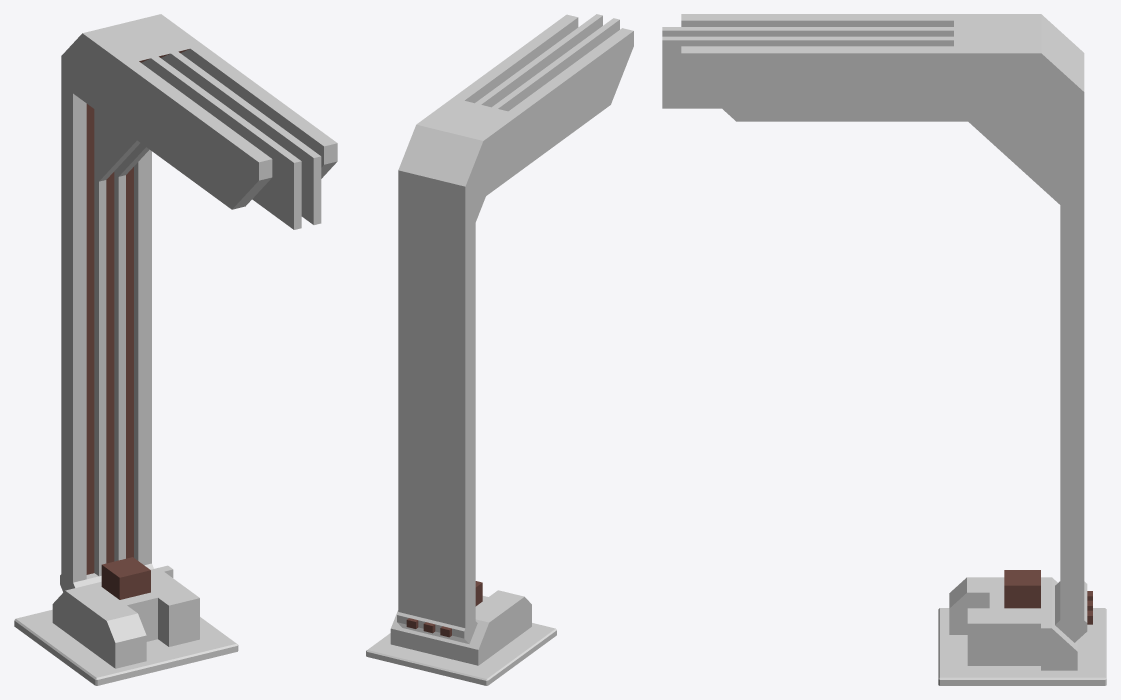
3 views of the same model, side by side, from view 1: azimuth 30°, elevation 25°; view 2: azimuth 150°, elevation 25°; view 3: azimuth 270°, elevation 25° (orthographic). The views are drawn at different scales.
Visible parts, largest first — view 1: 1x1C; view 2: 1x1C; view 3: 1x1C.
Boxes of the visible parts, box(x1,y1,x2,y2) form: 1x1C: box(14, 14, 337, 685); 1x1C: box(366, 14, 633, 685); 1x1C: box(662, 14, 1106, 685).
Size of the model in its own units: 1 by 4.06 by 2.64.
